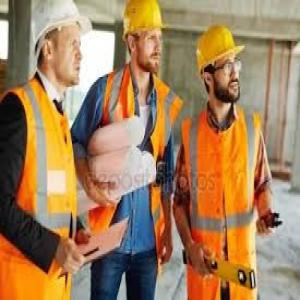white: (32, 3, 87, 95)
yellow: (192, 21, 250, 109), (121, 3, 167, 77)
